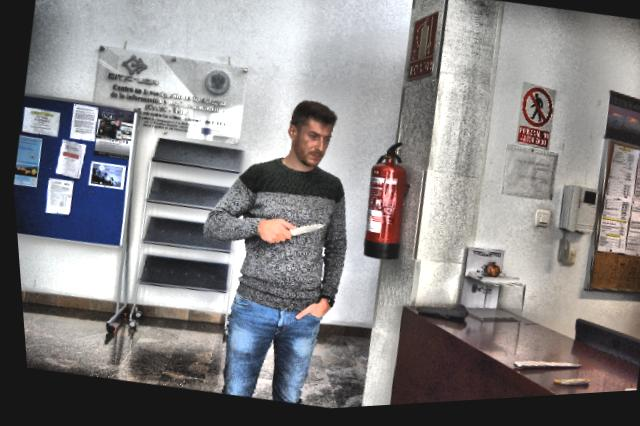knife: (275, 217, 325, 248)
